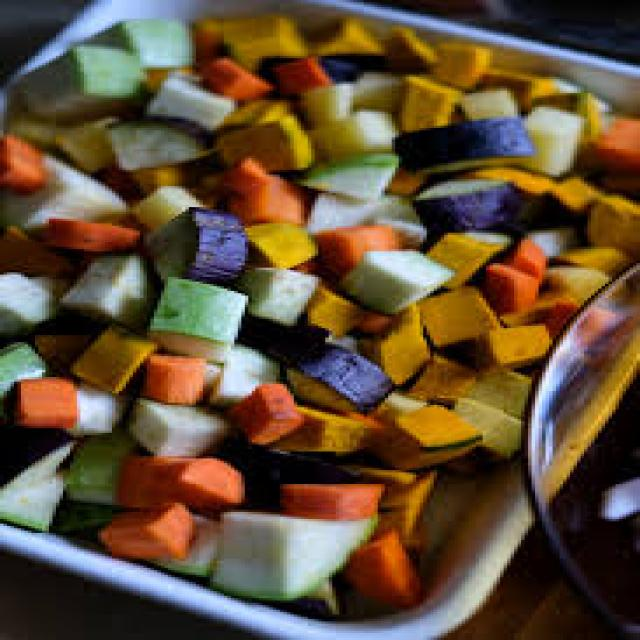food_waste: (0, 14, 637, 612)
